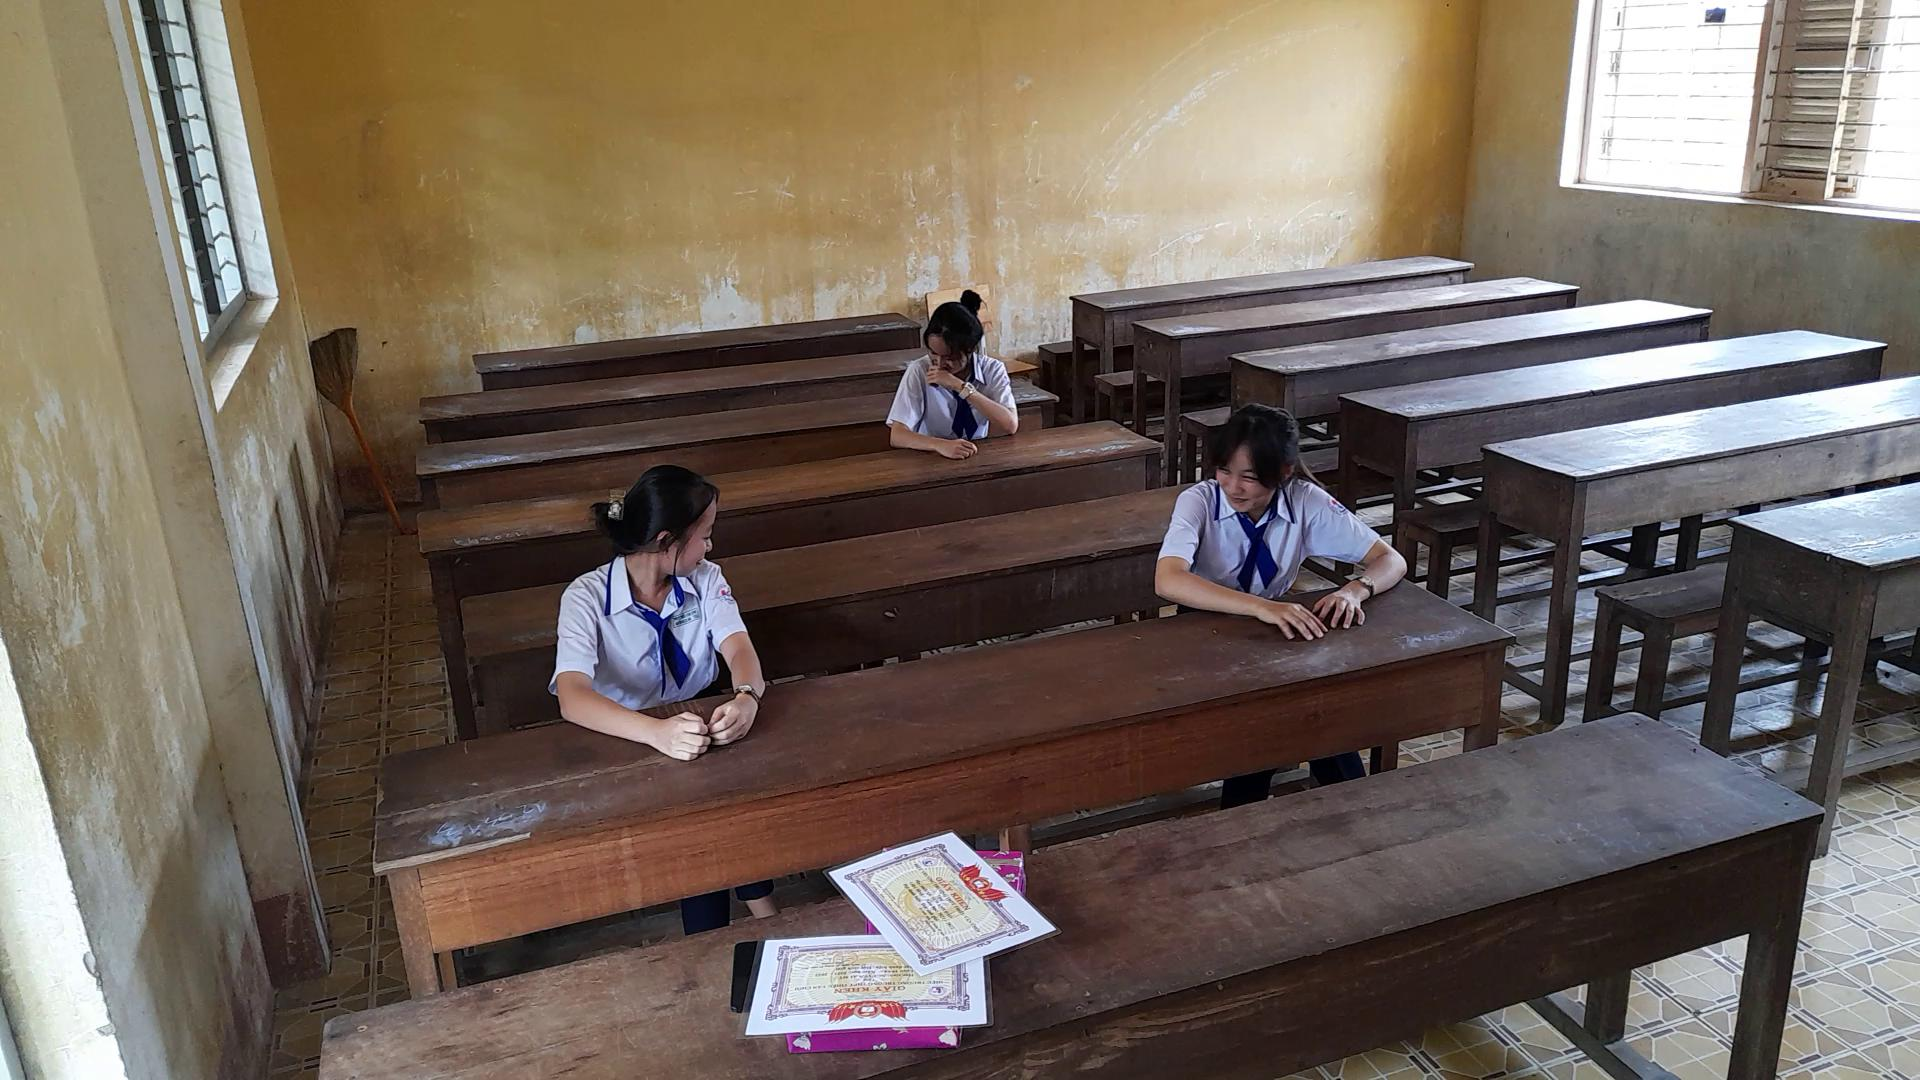Bend Over The Desk: (889, 277, 996, 377)
Look Around: (1170, 396, 1331, 537), (564, 456, 724, 597)
Wave: (914, 363, 1051, 436)
